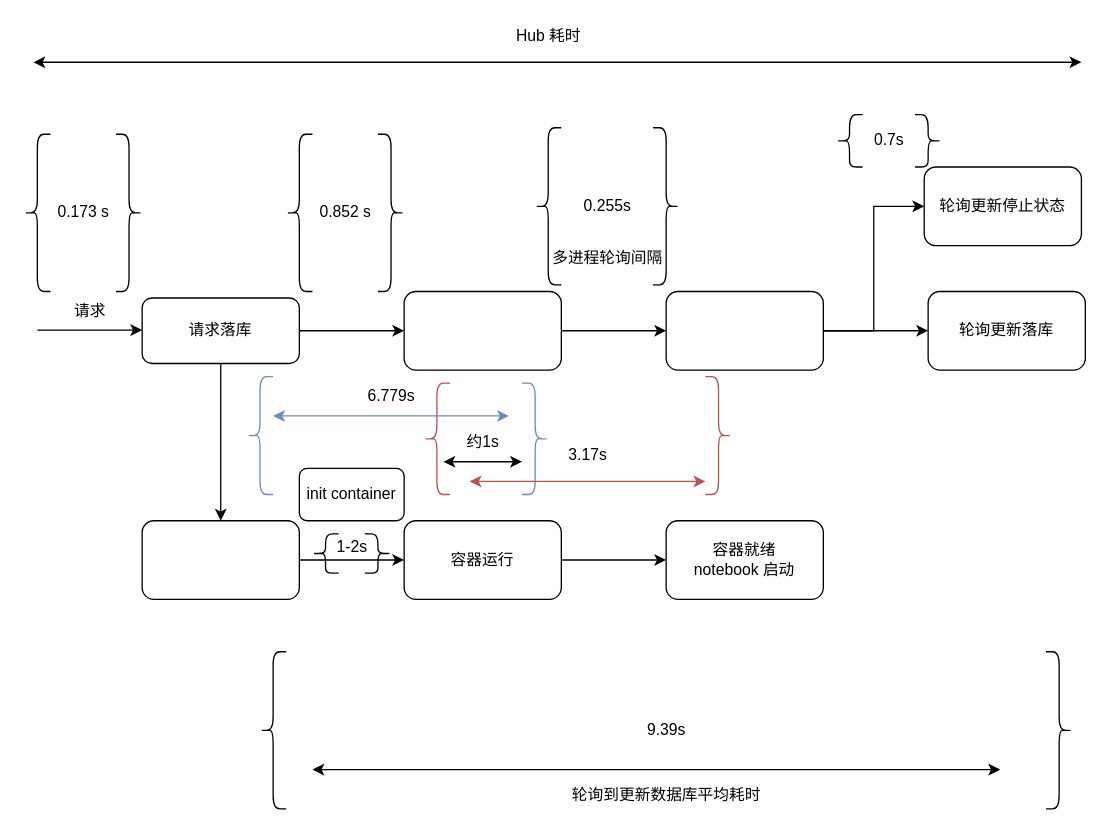
The diagram is 1116 pixels wide and 832 high, and some of its shapes have lost their labels. The shapes that lost their labels are listed below. From the top down, each one's centre as x and y in pixels, then its label:
(482,330): 首次被轮询
(744,330): 第二次被轮询
(220,559): K8S 创建
